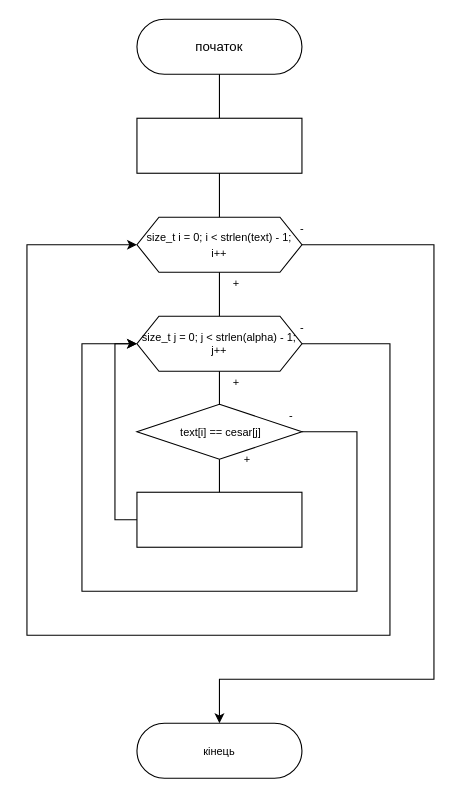
This 462x798 diagram has some shape labels left out. Each missing label, with the centre of its shape:
text[i] = alpha[j]: pixel 219 519
оголошення строки, масиву з алфавітом та масиву з алфавітом "цезаря": pixel 219 145
